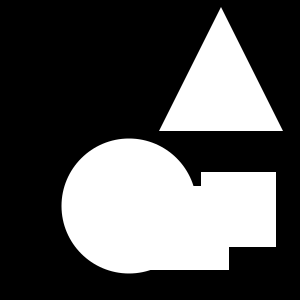circle: (145, 186, 229, 270), (201, 172, 276, 247)
rectangle: (61, 138, 196, 274)
triangle: (159, 7, 283, 131)
